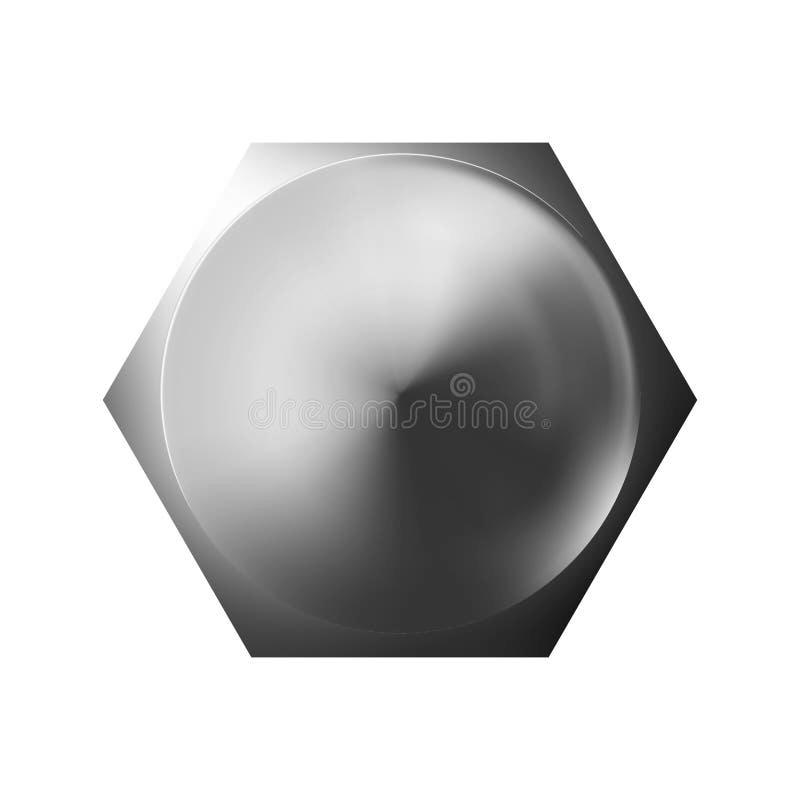screw: (104, 140, 695, 660)
